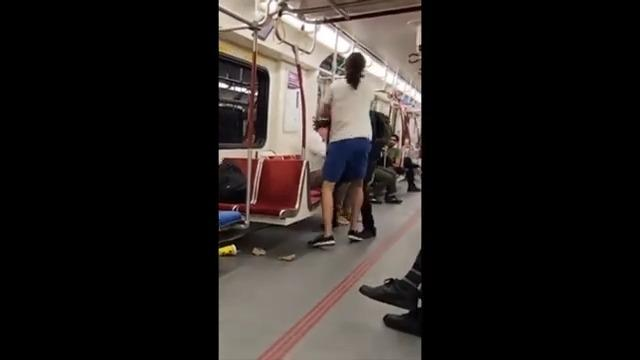non-violence: (359, 250, 422, 337), (387, 135, 421, 191), (306, 121, 330, 185), (375, 168, 404, 206)
violence: (305, 54, 392, 249)
